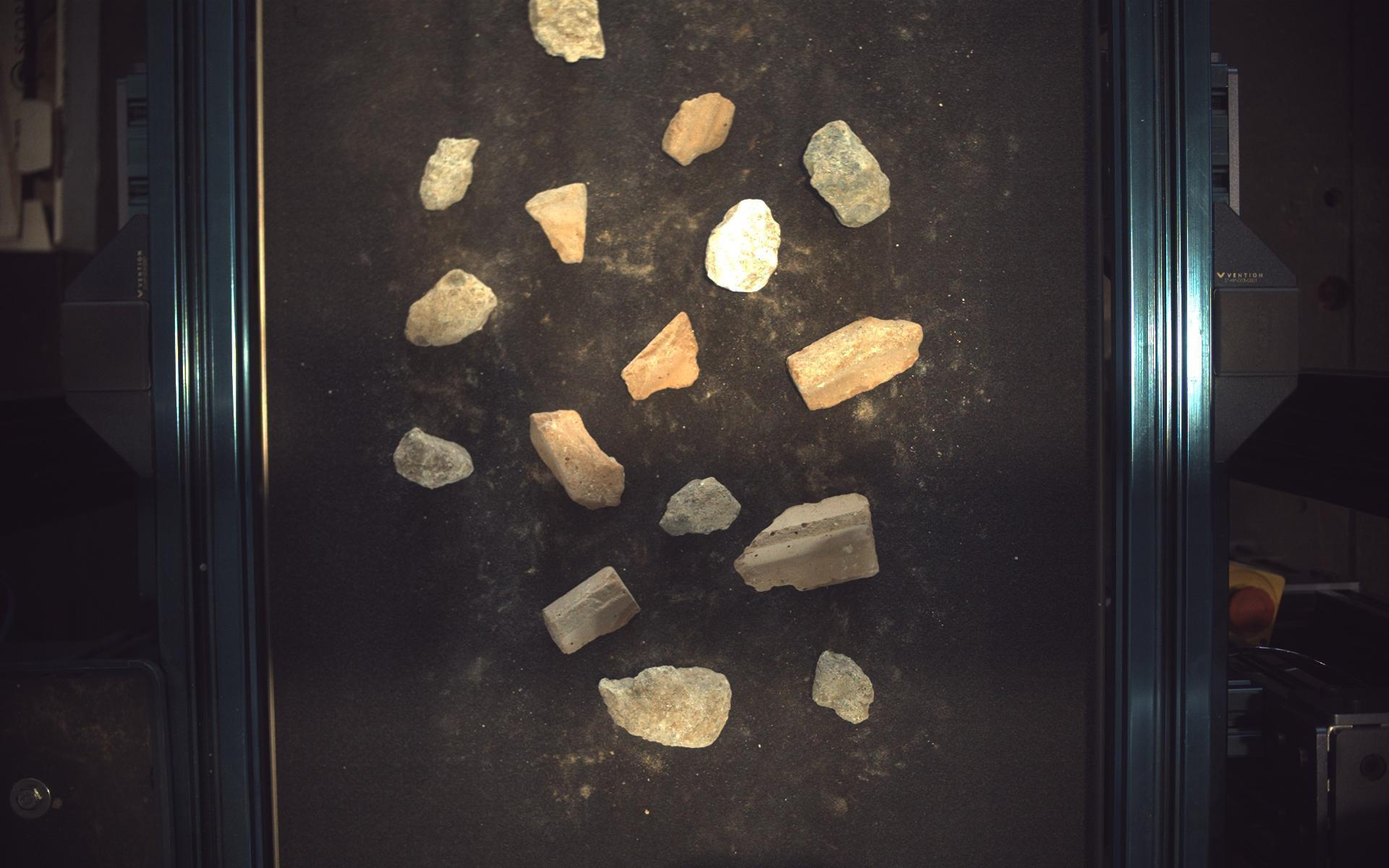brick: (736, 493, 880, 592), (789, 317, 925, 410), (531, 409, 625, 509), (543, 568, 641, 655), (622, 312, 699, 400), (663, 92, 736, 165), (526, 182, 588, 263)
concrete: (600, 667, 733, 749), (804, 120, 892, 227), (404, 268, 498, 346), (706, 198, 782, 292), (394, 427, 474, 489), (660, 477, 742, 537), (530, 1, 606, 61), (814, 652, 876, 725), (420, 137, 480, 210)
